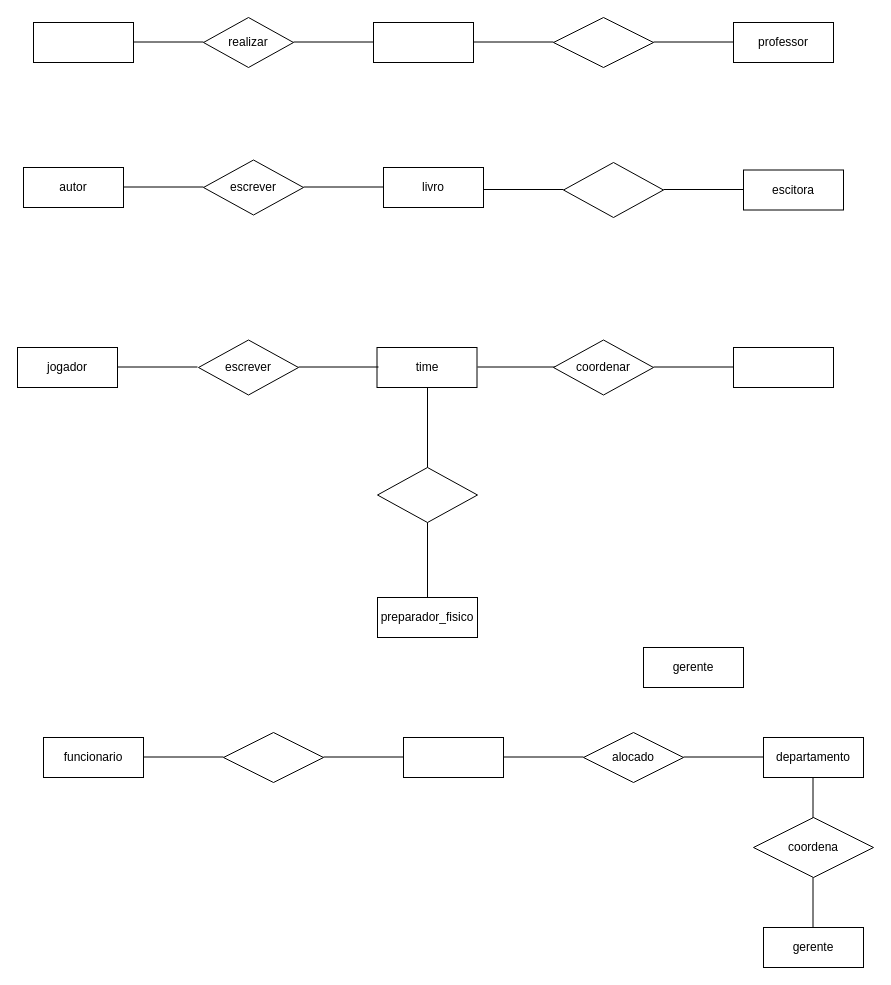
This 891x985 diagram has some shape labels left out. Here are the shapes that lost their labels. From the top down, the centre of each, then its label:
the point at 83,42: aluno
the point at 423,42: trabalho
the point at 603,42: orientar
the point at 613,190: publicar
the point at 783,367: tecnico
the point at 427,494: treinar
the point at 273,757: cadastrado
the point at 453,757: cargo
